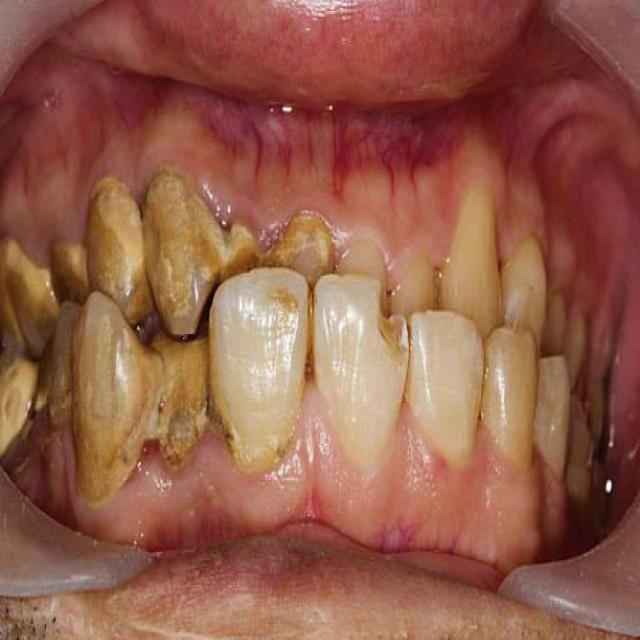caries: (367, 282, 420, 359)
